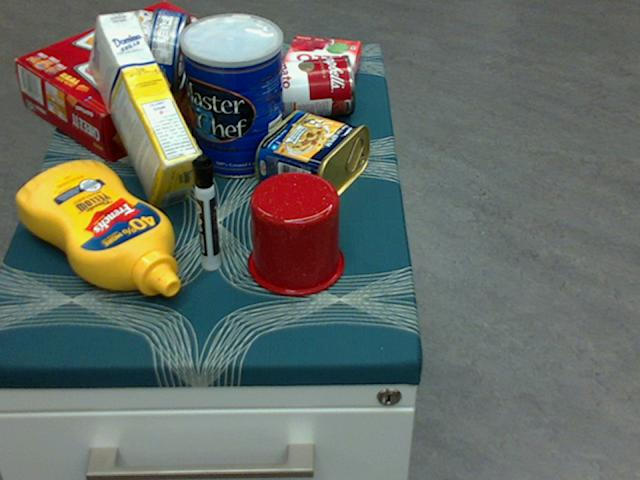cracker_box: (16, 2, 252, 163)
gelatin_box: (281, 37, 360, 86)
large_marker: (191, 154, 220, 269)
master_chef_can: (180, 12, 285, 178)
mug: (245, 170, 344, 295)
mustard_bottle: (16, 160, 179, 295)
potted_meat_can: (255, 107, 370, 207)
sugar_box: (89, 11, 204, 207)
tomato_soup_can: (259, 54, 355, 120)
tuna_fish_can: (144, 6, 190, 92)
